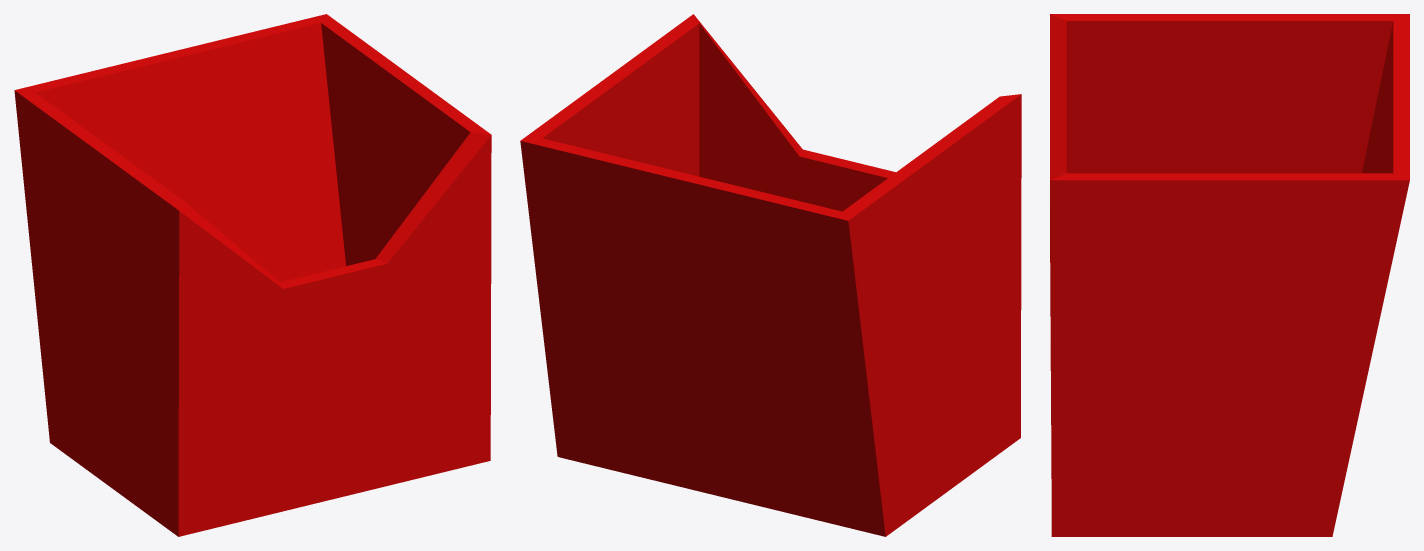
The model's file is FryBox01.fbx.
3 views of the same model, side by side, from view 1: azimuth 30°, elevation 25°; view 2: azimuth 150°, elevation 25°; view 3: azimuth 270°, elevation 25° (orthographic). The views are drawn at different scales.
Visible parts, largest first — view 1: Cube; view 2: Cube; view 3: Cube.
Boxes of the visible parts, <box> form: Cube: <box>14,14,491,536</box>; Cube: <box>520,14,1021,536</box>; Cube: <box>1050,14,1409,536</box>.
Size of the model in its own units: 200 by 200 by 183.
